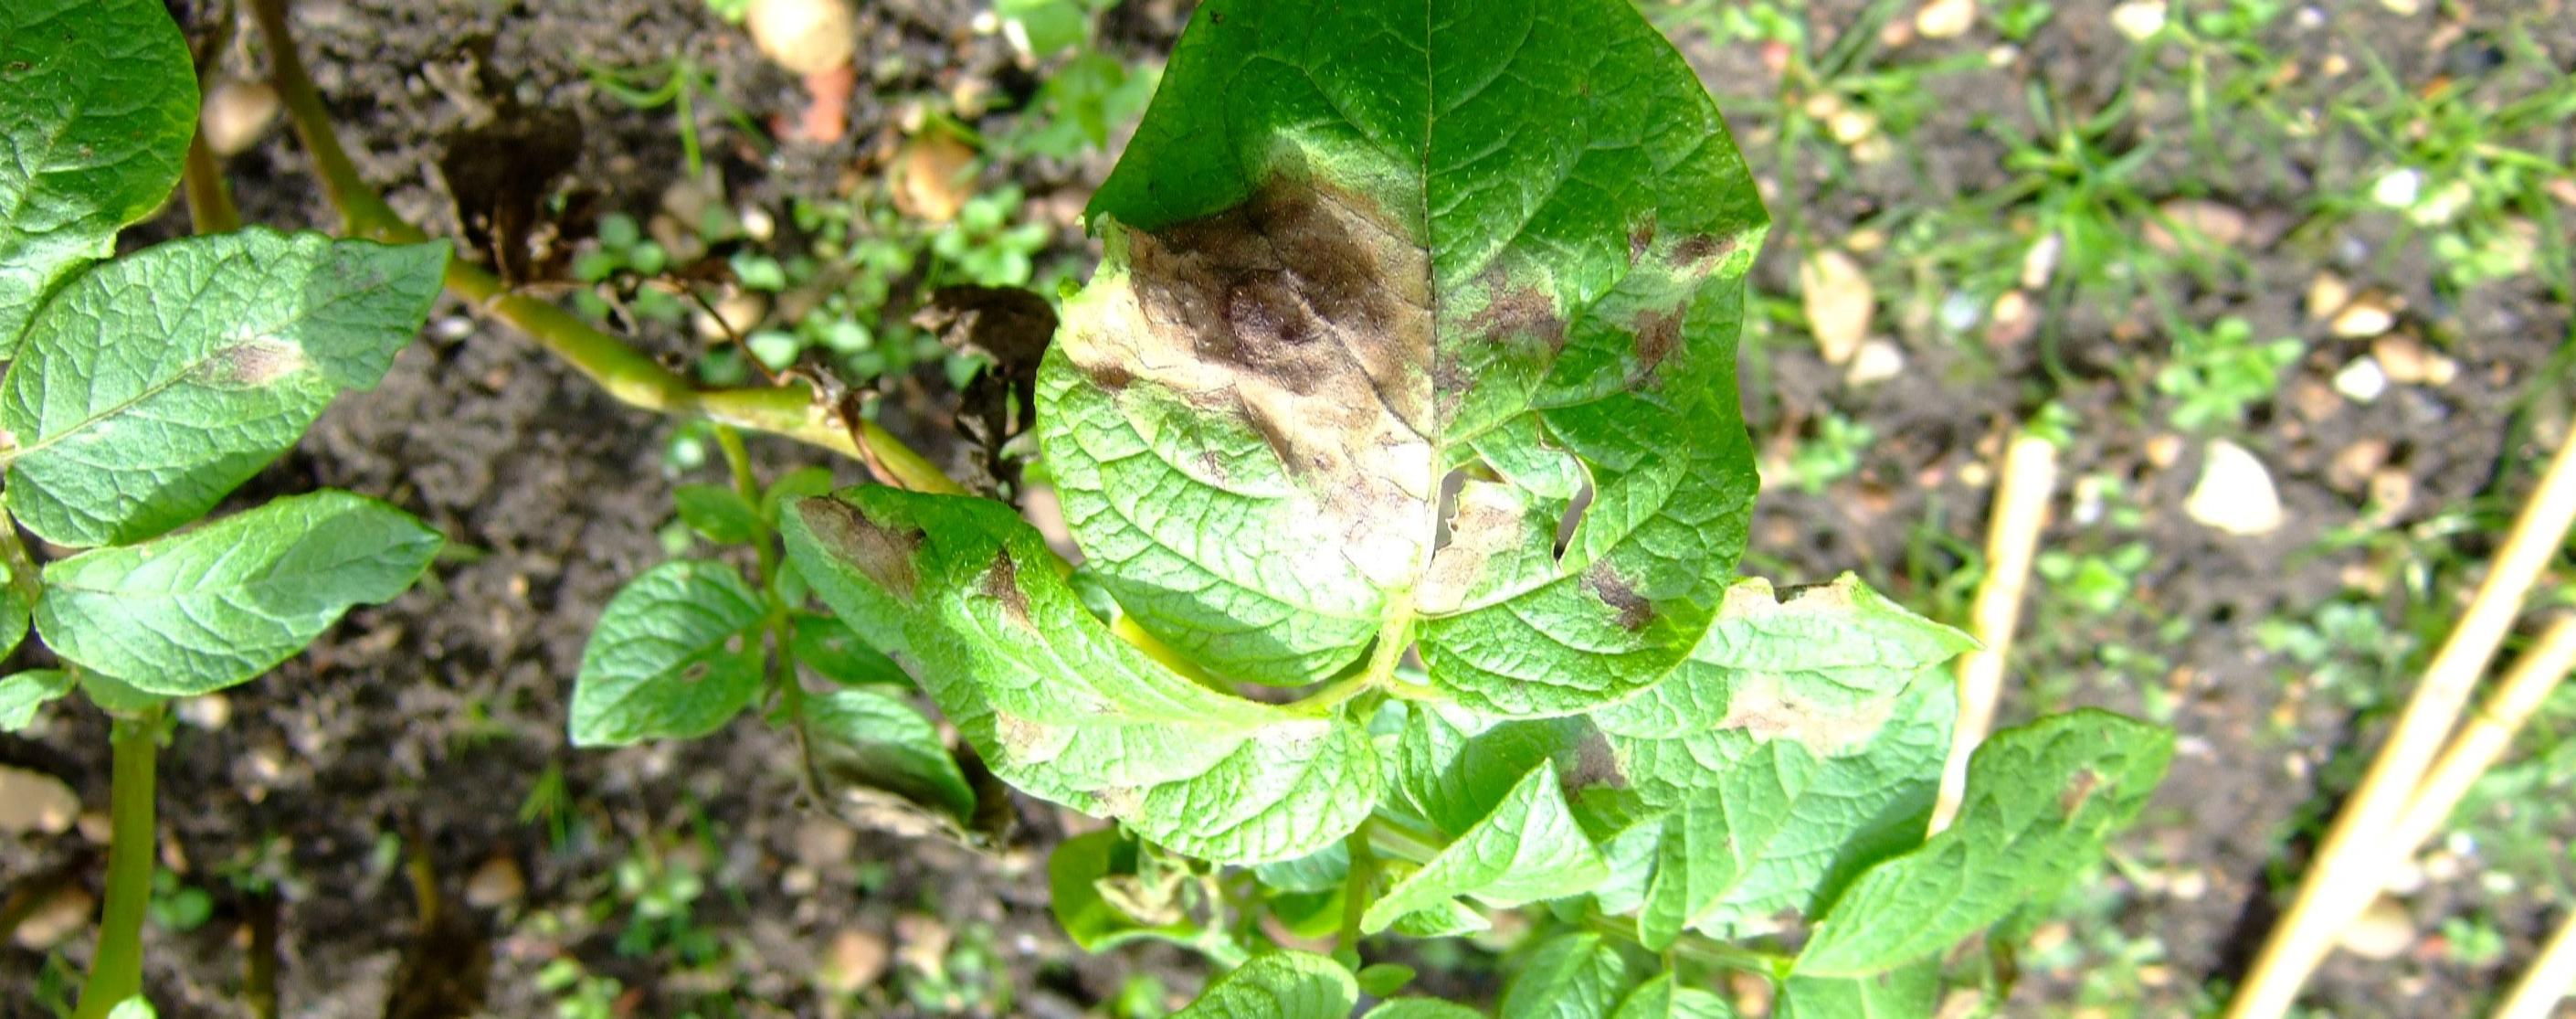Tomato leaf late blight: (1037, 0, 1807, 712)
